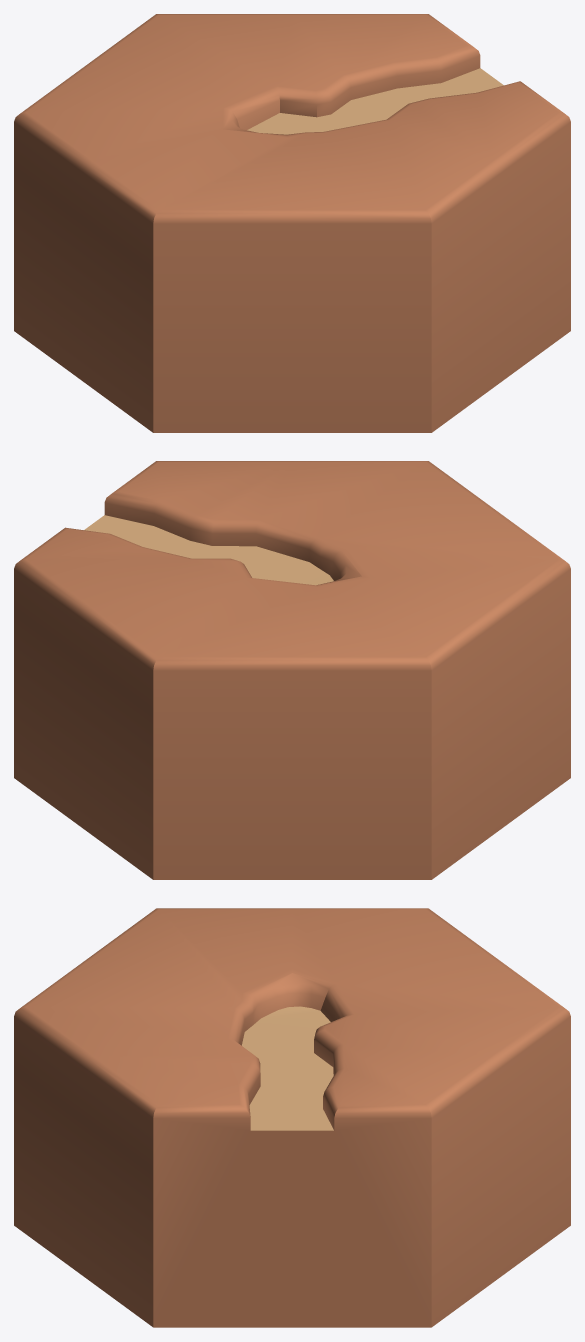
File: kaykit-hex-rock-roada.glb
The picture shows the model from 3 angles, top to bottom: view 1: azimuth 30°, elevation 25°; view 2: azimuth 150°, elevation 25°; view 3: azimuth 270°, elevation 25°; orthographic projection.
Visible parts, largest first — view 1: hex_rock_roadA; view 2: hex_rock_roadA; view 3: hex_rock_roadA.
Boxes of the visible parts, x1,y1,x2,y2 form: hex_rock_roadA: (14,14,570,432); hex_rock_roadA: (14,461,570,879); hex_rock_roadA: (14,908,570,1327).
Bounding box in the file's own units: 2 × 1 × 2.31.
